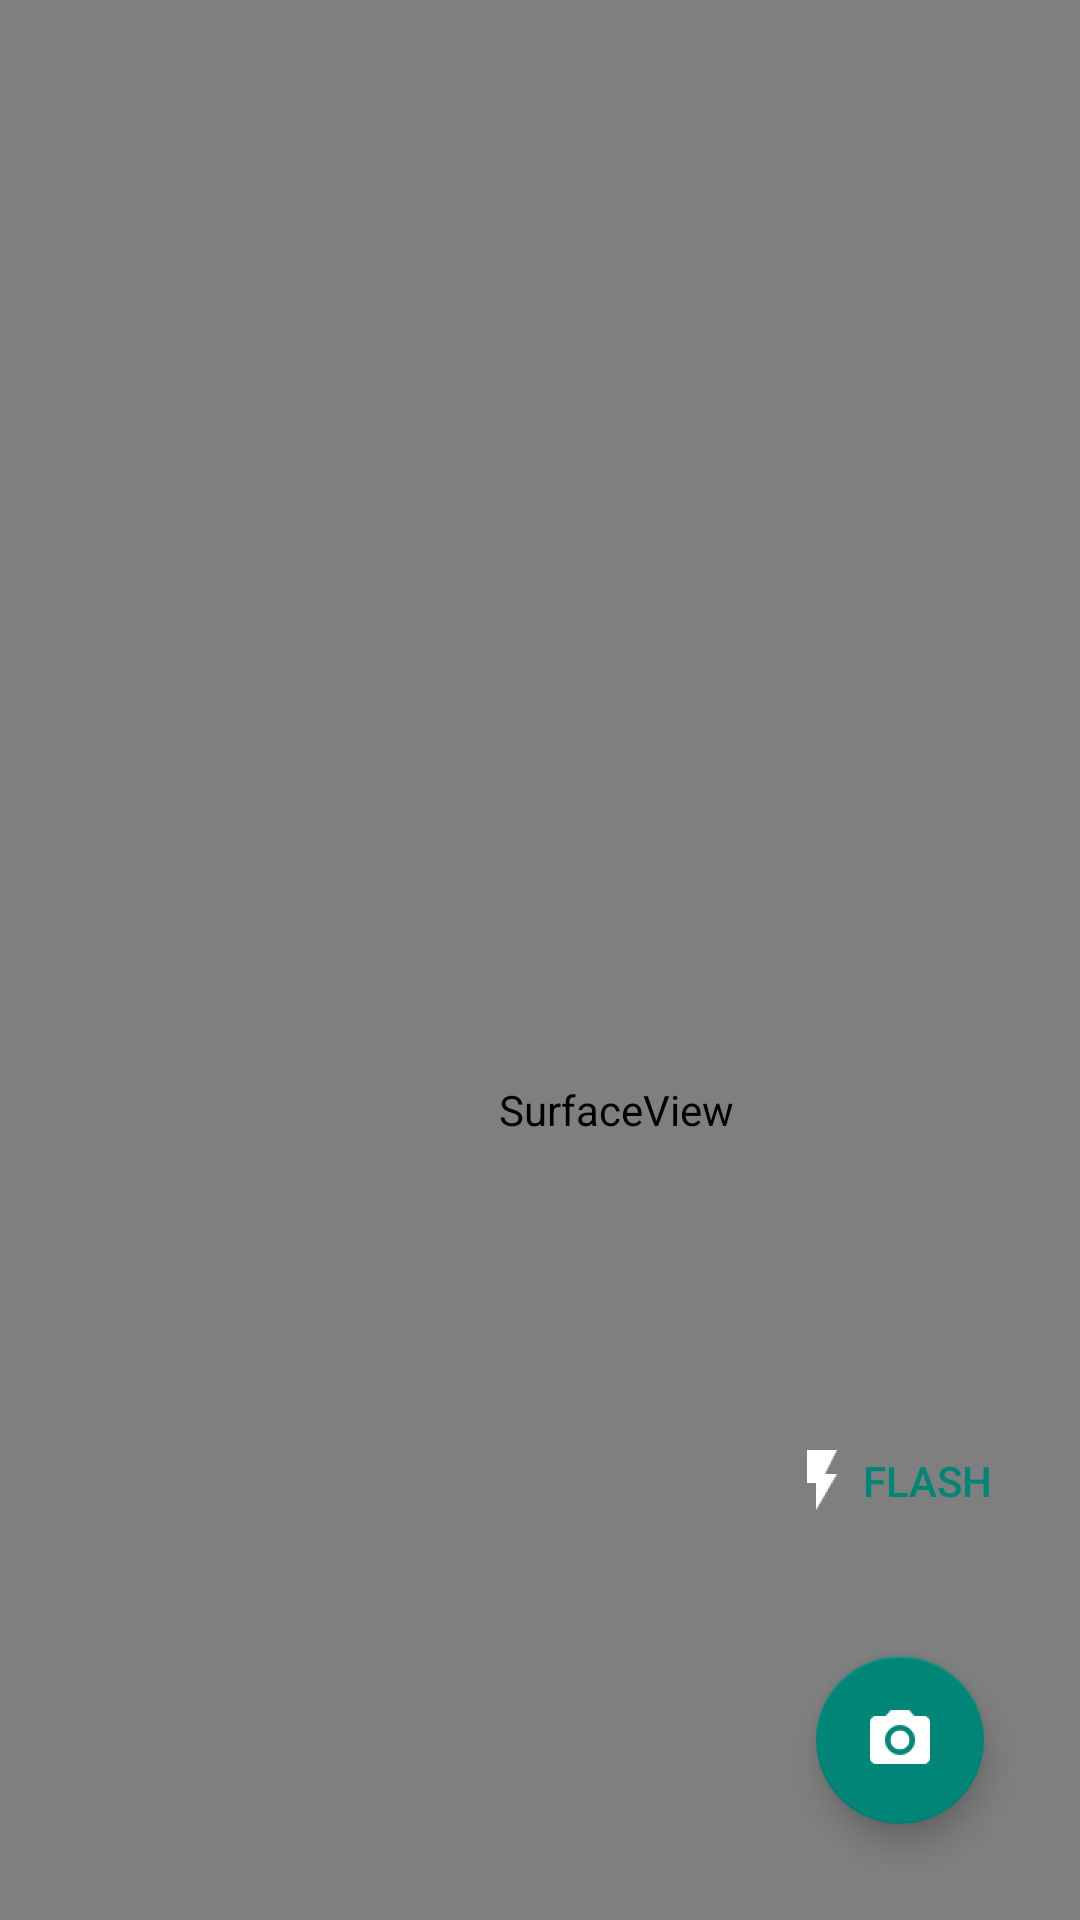

Screen size 1080px x 1920px. Icon name, then its box in pixels as detection(x1, y1, x2, y2):
camera: detection(816, 1656, 984, 1824)
